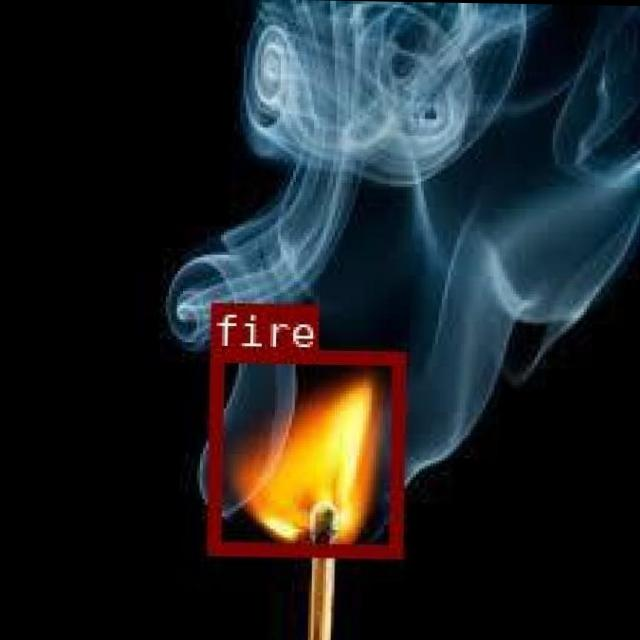fire: (205, 347, 402, 553)
